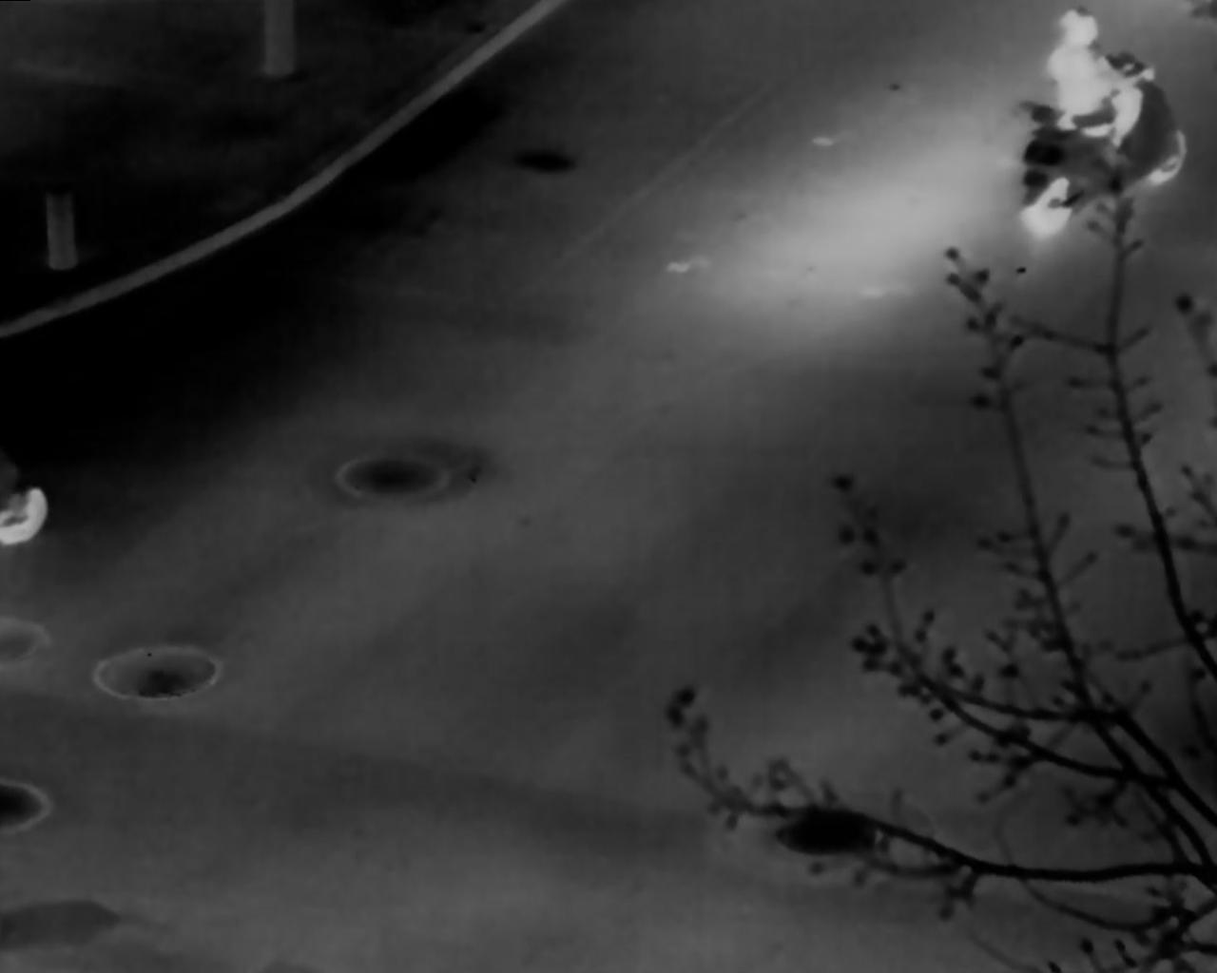person: (1048, 9, 1158, 149)
